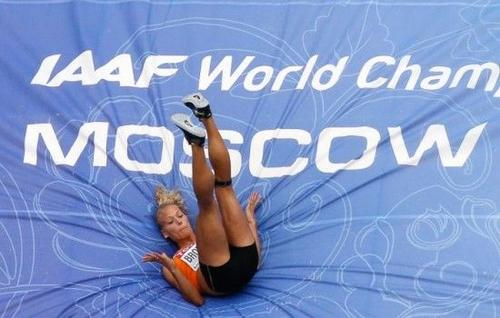down: (139, 89, 266, 309)
